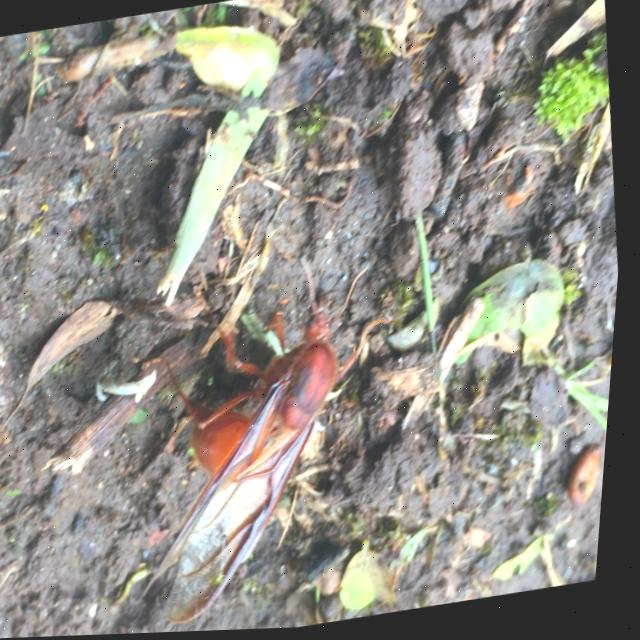Alive-Male-Alate: (110, 245, 432, 632)
